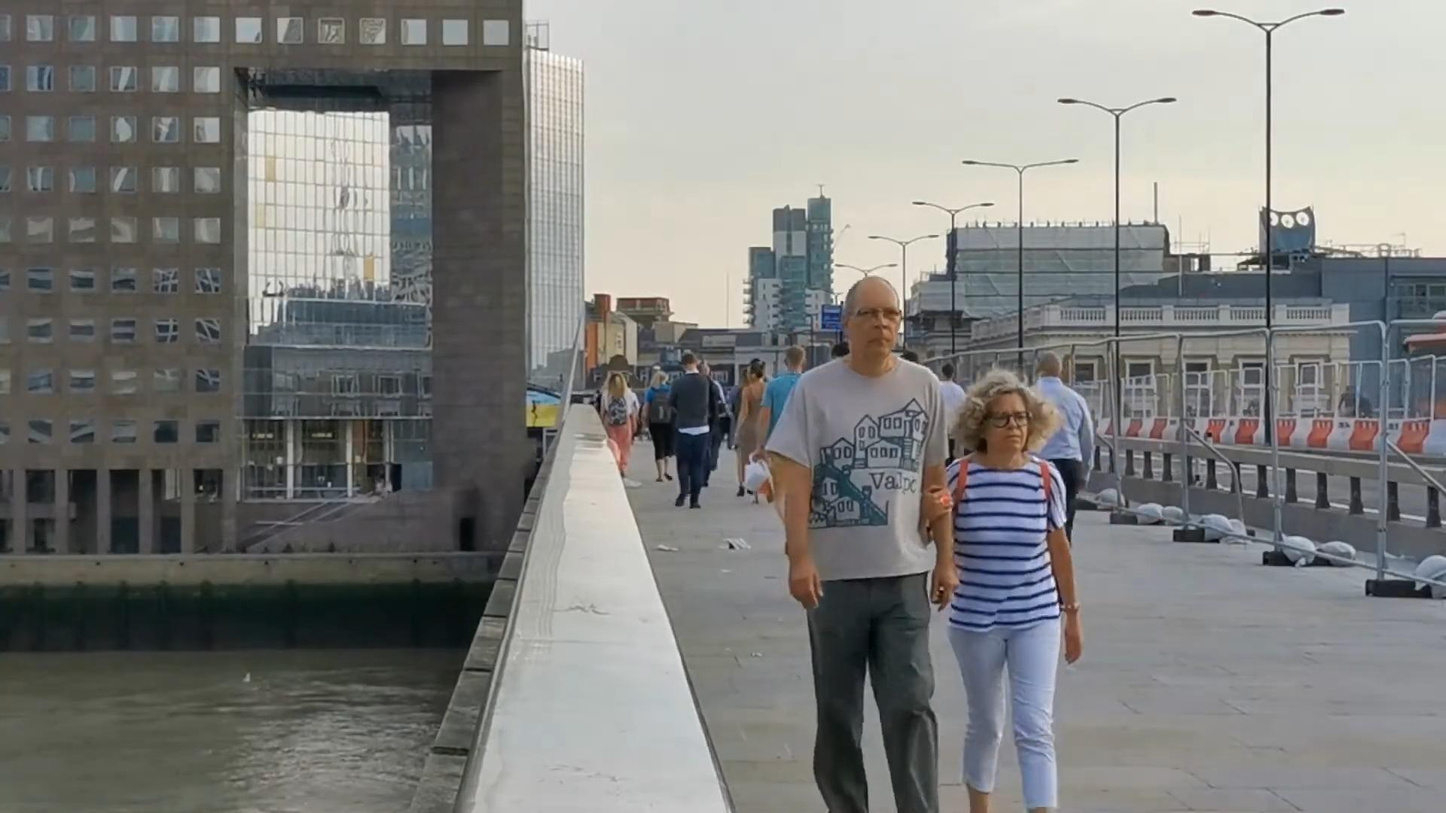no-helmet: (949, 368, 1062, 455), (840, 275, 902, 361), (1037, 351, 1063, 377), (783, 345, 806, 370), (604, 372, 626, 396), (746, 361, 766, 383), (680, 350, 699, 371), (650, 371, 669, 390)
